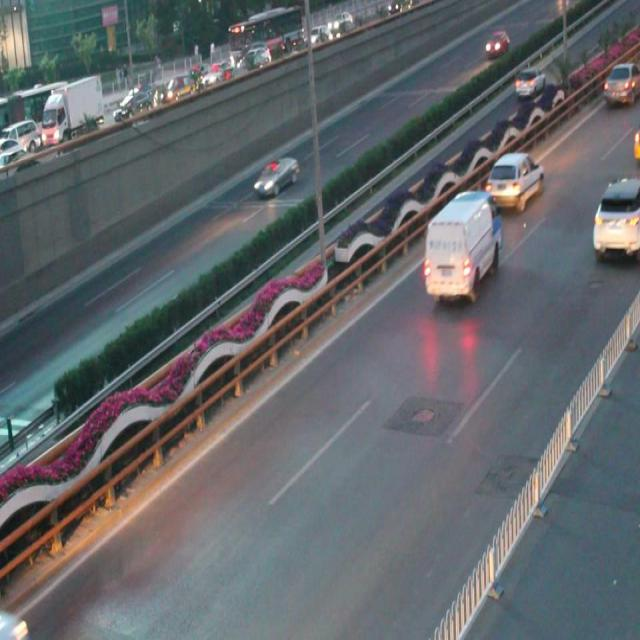car: (589, 177, 640, 259), (483, 152, 543, 210), (251, 156, 298, 197)
truck: (422, 191, 501, 300)
